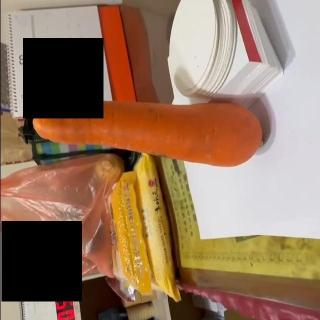carrot: (31, 100, 263, 168)
